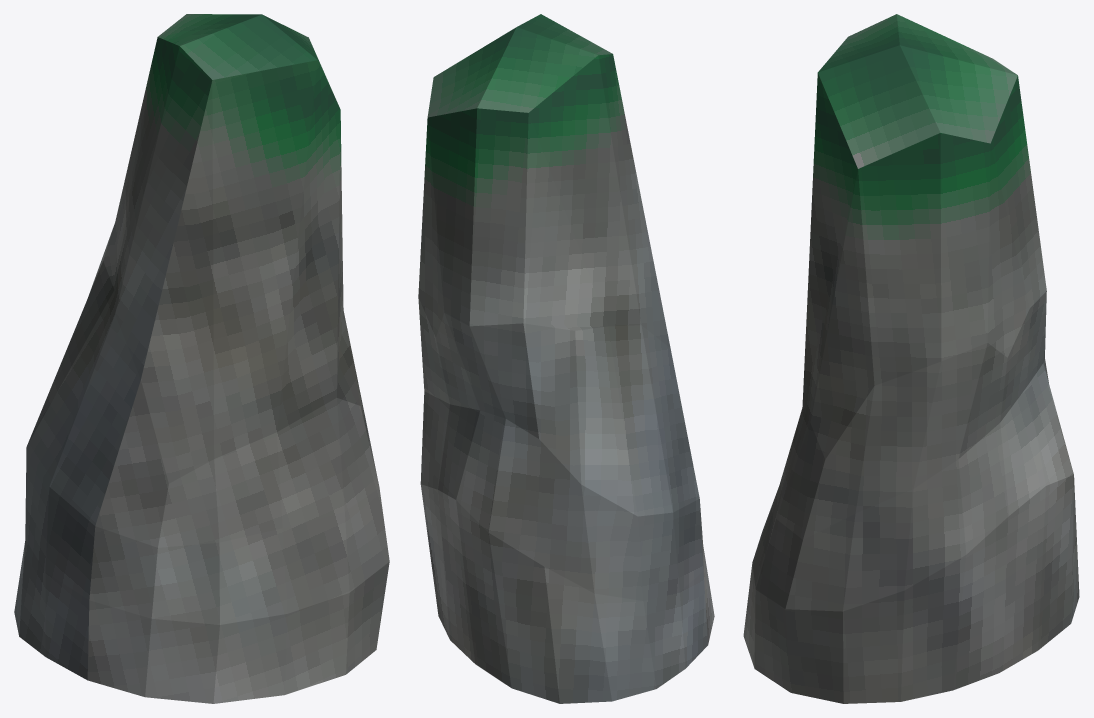
Rendered from big_rock.glb.
The picture shows the model from 3 angles, left to right: view 1: azimuth 30°, elevation 25°; view 2: azimuth 150°, elevation 25°; view 3: azimuth 270°, elevation 25°; orthographic projection. The views are drawn at different scales.
Parts seen in each view (by area): view 1: Cube; view 2: Cube; view 3: Cube.
Part boxes in pixels (bbox=[...]): Cube: bbox=[14, 14, 389, 703]; Cube: bbox=[418, 14, 714, 703]; Cube: bbox=[743, 14, 1079, 703].
Bounding box in the file's own units: 3.05 × 6.12 × 3.02.
1 material, 1 textured.
